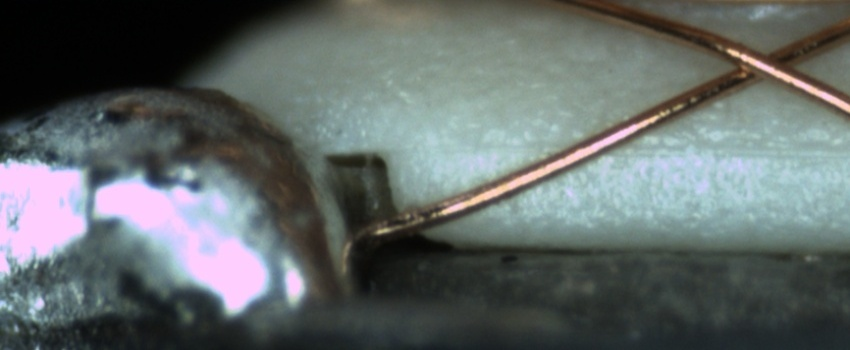CL: (710, 33, 815, 92)
DL: (482, 118, 850, 179)
